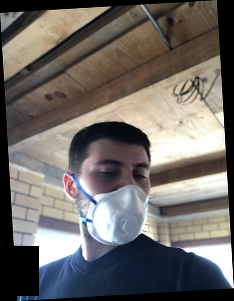with_mask: (81, 153, 152, 244)
